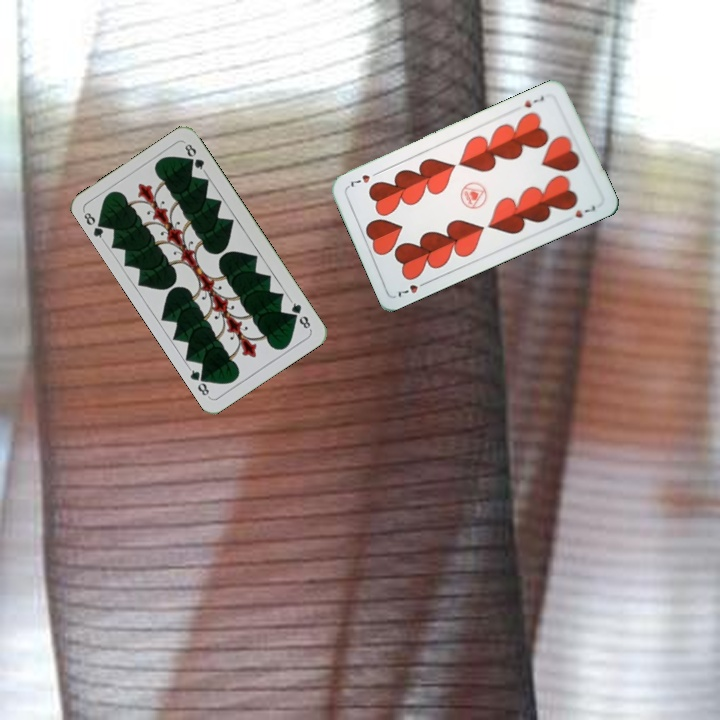G8: (79, 207, 109, 244), (286, 296, 313, 333)
H7: (394, 277, 431, 299), (520, 92, 547, 110)
